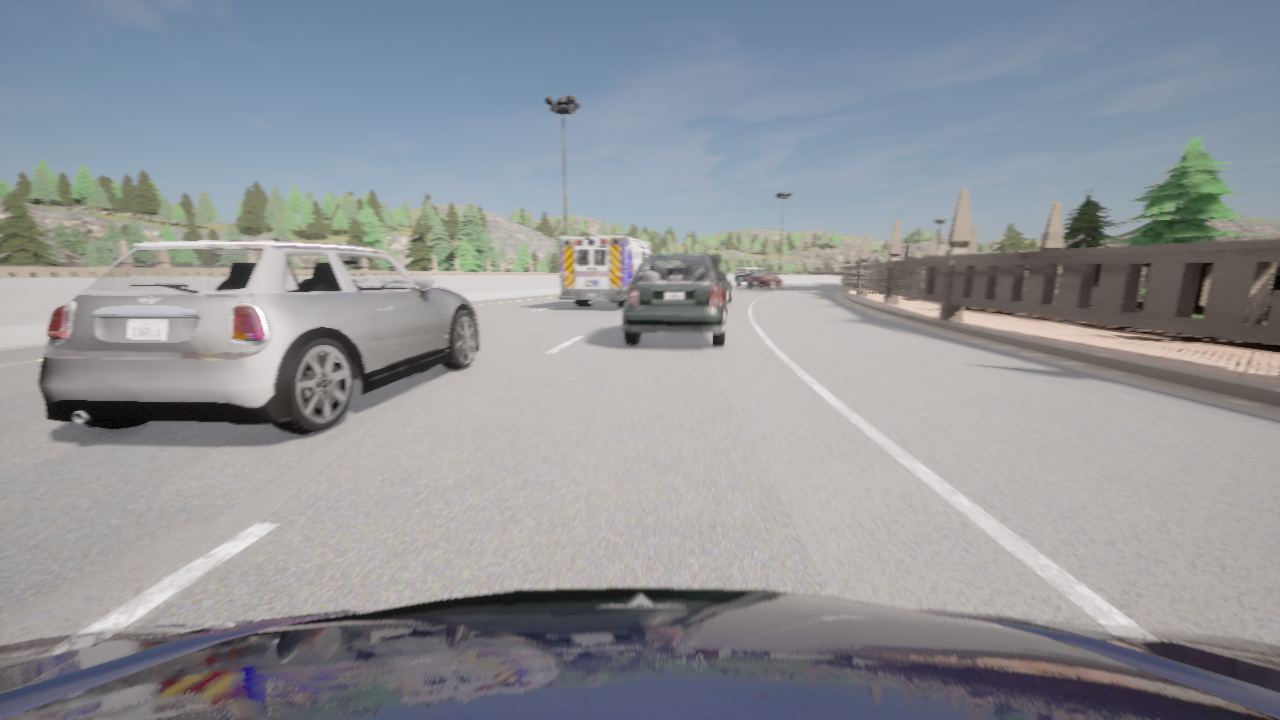cyclist: (0, 588, 1279, 719), (38, 241, 478, 433), (623, 254, 726, 347), (559, 235, 649, 307), (701, 254, 732, 304), (747, 271, 783, 290), (734, 267, 764, 285)
